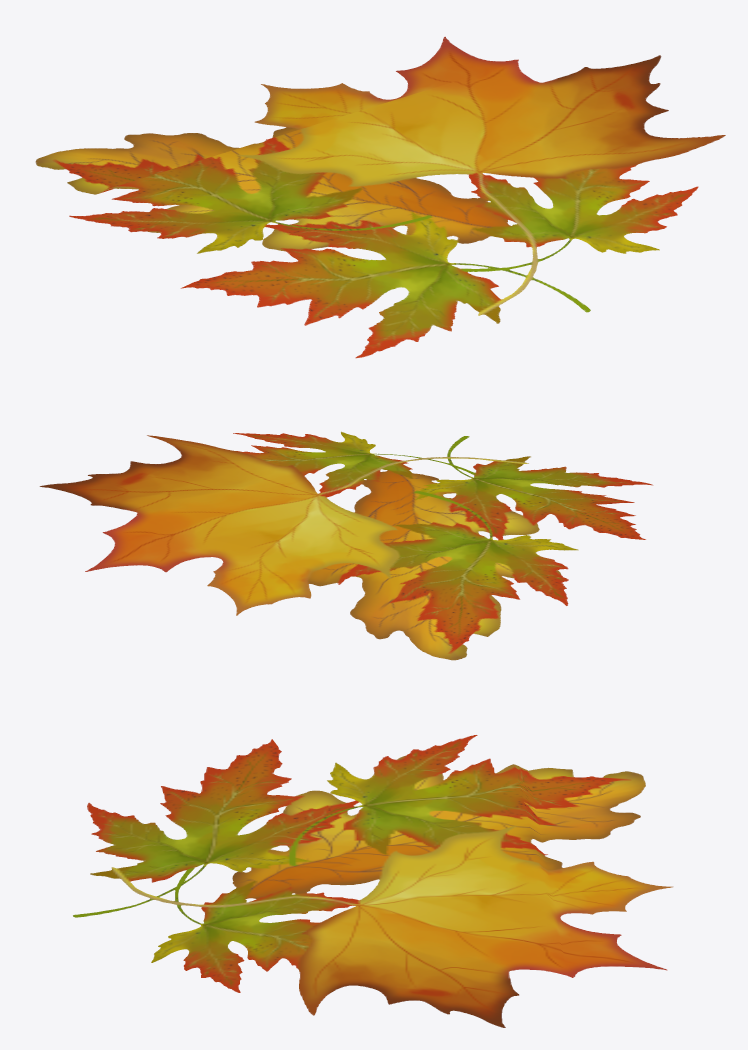
File: dead_leaf_group_3.fbx
The picture shows the model from 3 angles, top to bottom: view 1: azimuth 30°, elevation 25°; view 2: azimuth 150°, elevation 25°; view 3: azimuth 270°, elevation 25°; orthographic projection. The views are drawn at different scales.
Parts seen in each view (by area): view 1: dead_leaf_group_3; view 2: dead_leaf_group_3; view 3: dead_leaf_group_3.
Part boxes in pixels (box(x1,y1,x2,y2)): dead_leaf_group_3: box(35, 36, 725, 358); dead_leaf_group_3: box(39, 431, 653, 660); dead_leaf_group_3: box(73, 735, 673, 1027).
Bounding box in the file's own units: 45.58 × 2.15 × 41.13.
